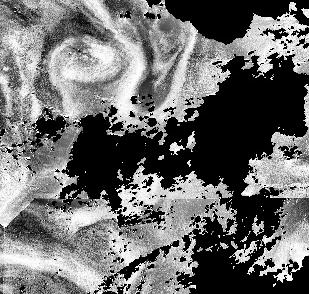AE: (36, 28, 144, 101)
